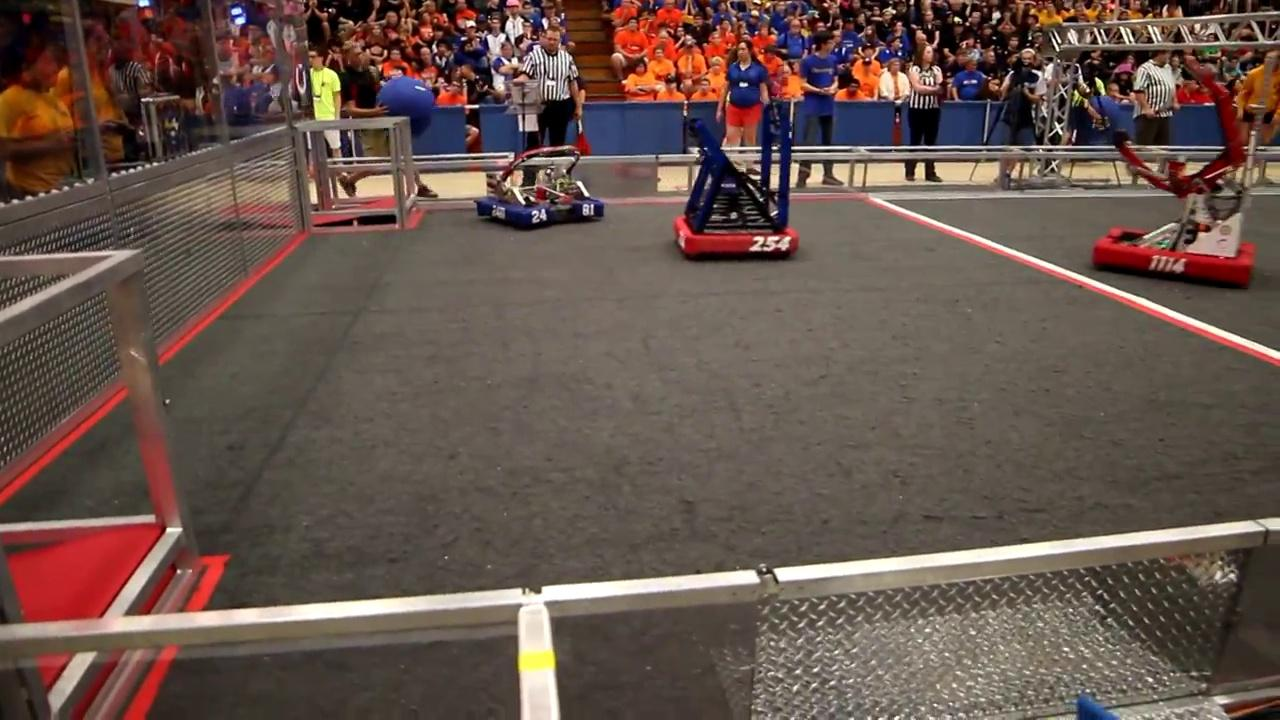robot: (1083, 54, 1263, 290), (671, 87, 806, 264), (474, 140, 608, 233)
